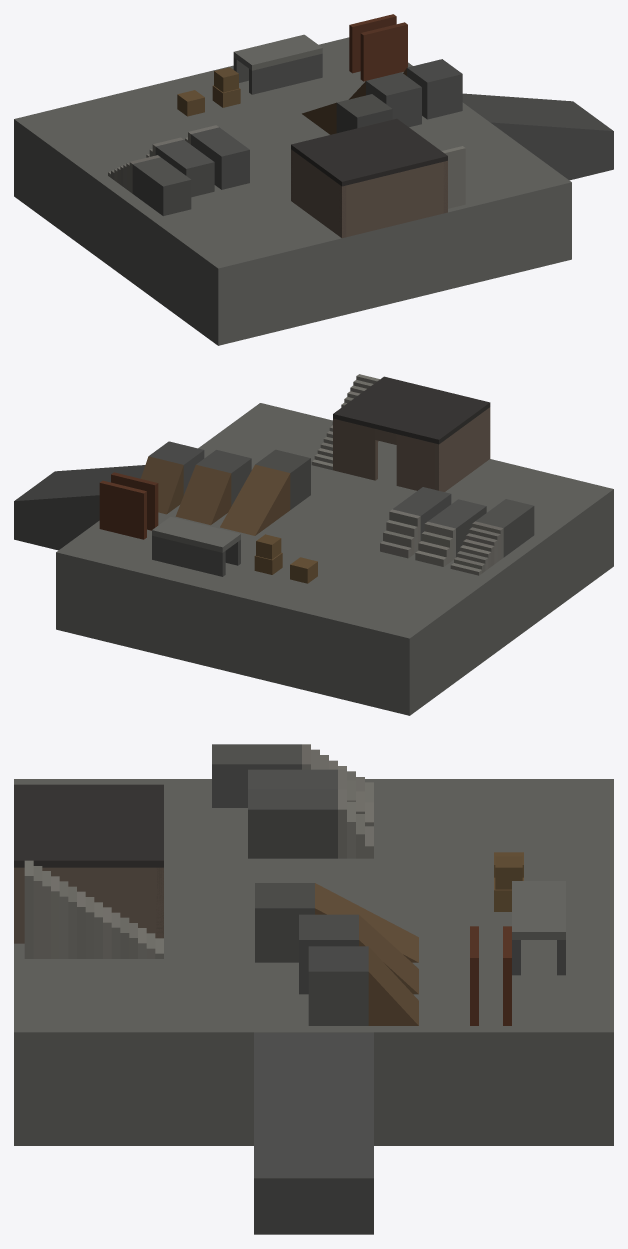
The model's file is proving_ground.glb.
3 renders of one model, top to bottom at view 1: azimuth 30°, elevation 25°; view 2: azimuth 150°, elevation 25°; view 3: azimuth 270°, elevation 25°, orthographic. The views are drawn at different scales.
Visible parts, largest first — view 1: SOLID_Pad, SOLID_Building, SOLID_Stairs, SOLID_Ramps, SOLID_Tunnel, SOLID_Gap, SOLID_Crates; view 2: SOLID_Pad, SOLID_Building, SOLID_Ramps, SOLID_Stairs, SOLID_Tunnel, SOLID_Gap, SOLID_Crates; view 3: SOLID_Pad, SOLID_Building, SOLID_Ramps, SOLID_Stairs, SOLID_Tunnel, SOLID_Gap, SOLID_Crates.
Boxes of the visible parts, x1,y1,x2,y2 form: SOLID_Pad: (14,37,613,345); SOLID_Building: (291,118,465,238); SOLID_Stairs: (108,125,249,215); SOLID_Ramps: (302,59,462,134); SOLID_Tunnel: (233,34,322,94); SOLID_Gap: (349,14,407,81); SOLID_Crates: (177,67,240,116); SOLID_Pad: (14,403,613,715); SOLID_Building: (311,374,490,491); SOLID_Ramps: (140,441,310,535); SOLID_Stairs: (380,487,534,575); SOLID_Tunnel: (152,516,240,576); SOLID_Gap: (99,472,158,539); SOLID_Crates: (254,534,317,583); SOLID_Pad: (14,779,613,1234); SOLID_Building: (14,784,163,958); SOLID_Ramps: (255,883,418,1025); SOLID_Stairs: (212,744,373,858); SOLID_Tunnel: (512,881,565,975); SOLID_Gap: (470,926,511,1025); SOLID_Crates: (494,852,523,911).
Bounding box in the file's own units: 27 × 7.23 × 20.
